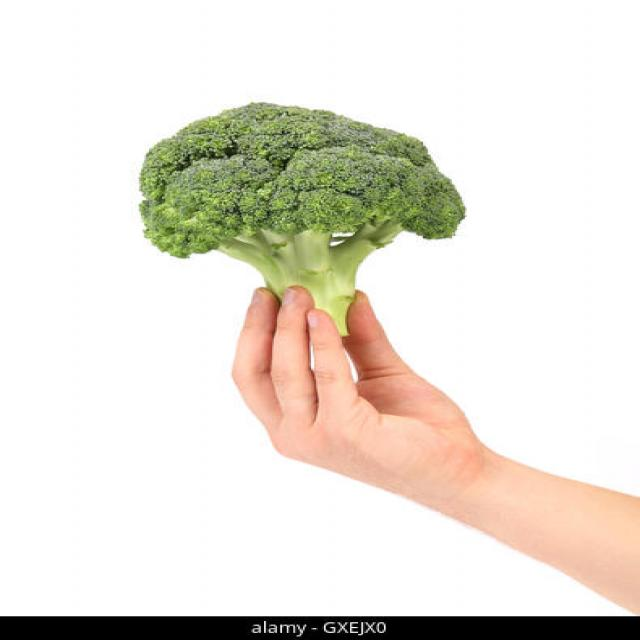broccoli: (132, 85, 466, 340)
